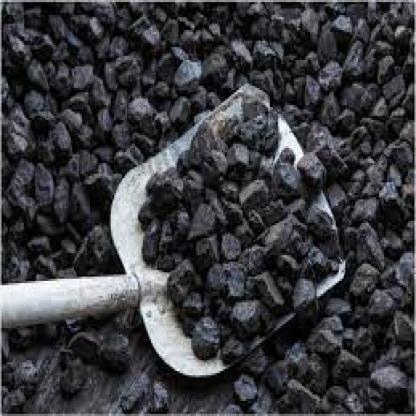Sedimentary_coal: (51, 39, 135, 163)
